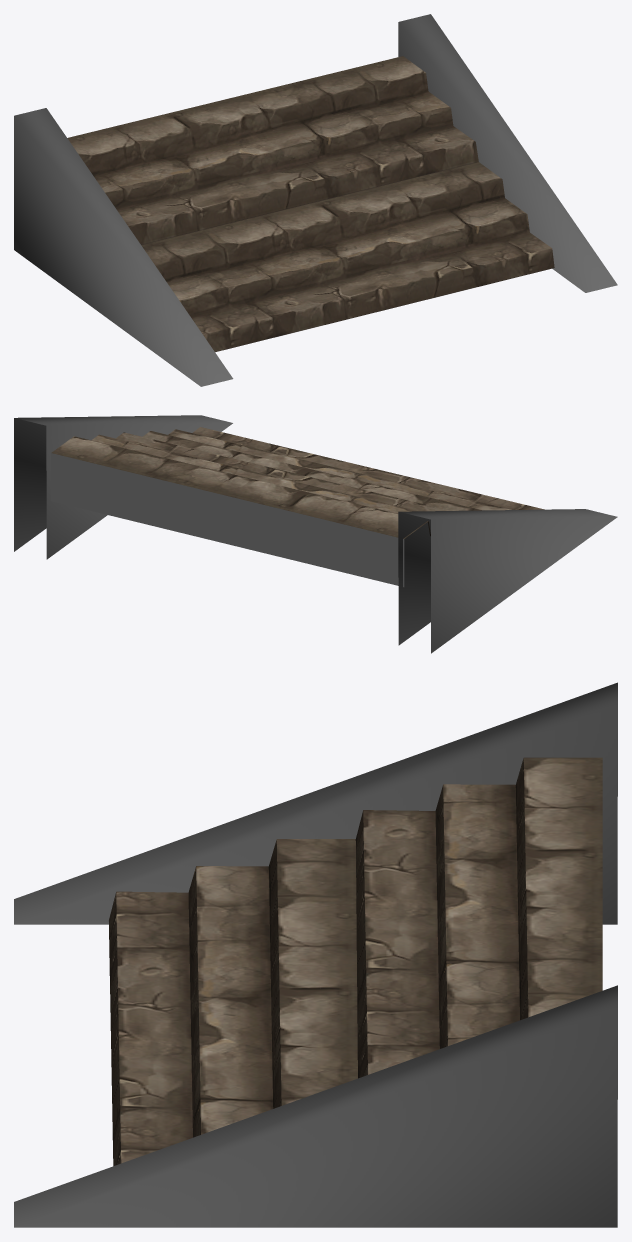
Rendered from stair_2.FBX.
3 renders of one model, top to bottom at view 1: azimuth 30°, elevation 25°; view 2: azimuth 150°, elevation 25°; view 3: azimuth 270°, elevation 25°, orthographic. The views are drawn at different scales.
Visible parts, largest first — view 1: stair_2; view 2: stair_2; view 3: stair_2.
Boxes of the visible parts, bbox=[...] form: stair_2: bbox=[14, 14, 617, 386]; stair_2: bbox=[14, 415, 617, 653]; stair_2: bbox=[14, 682, 617, 1227].
Bounding box in the file's own units: 4.98 × 1.53 × 3.87.
